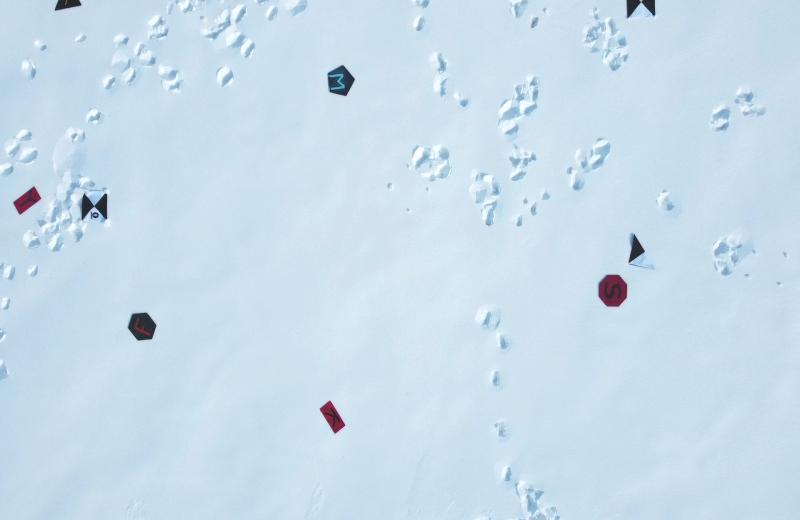Hexagon: (125, 308, 158, 344)
Octagon: (594, 270, 630, 310)
Pentagon: (324, 61, 357, 101)
Rectangle: (315, 397, 348, 438), (10, 183, 43, 216)
Triangle: (52, 0, 85, 14)
